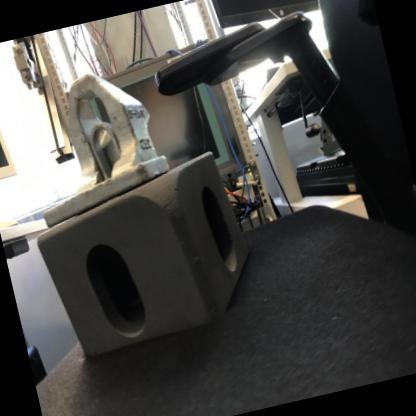CornerCasting: (26, 145, 268, 369)
Twistlock: (6, 56, 180, 231)
